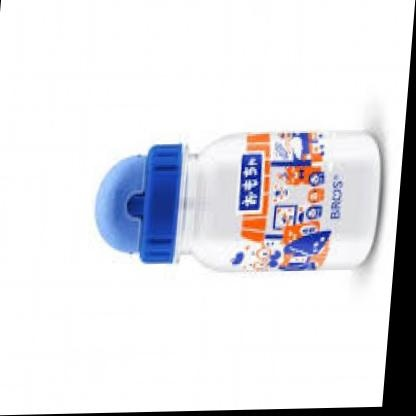trash: (96, 131, 381, 270)
